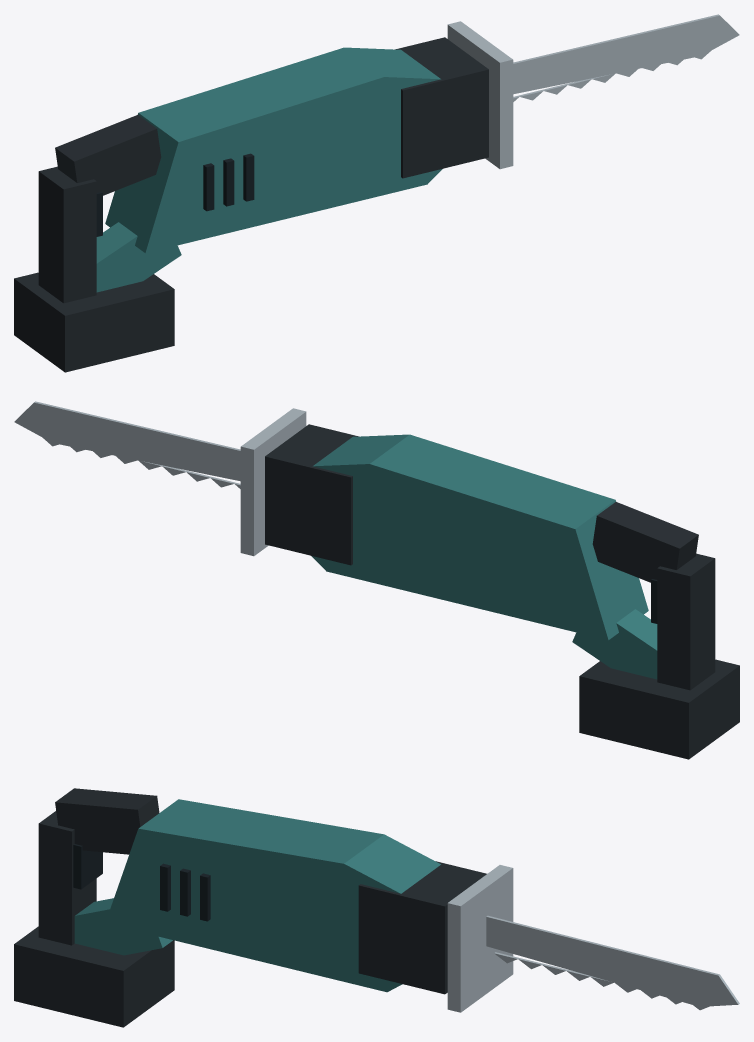
The model's file is b06_reciprocating_saw.glb.
3 views of the same model, one above another, from view 1: azimuth 30°, elevation 25°; view 2: azimuth 150°, elevation 25°; view 3: azimuth 330°, elevation 25° (orthographic).
Visible parts, largest first — view 1: b06_reciprocating_saw; view 2: b06_reciprocating_saw; view 3: b06_reciprocating_saw.
Part boxes in pixels (x1,y1,x2,y2): b06_reciprocating_saw: [14, 14, 739, 372]; b06_reciprocating_saw: [14, 401, 739, 759]; b06_reciprocating_saw: [14, 788, 739, 1027].
Bounding box in the file's own units: 0.6325 × 0.1835 × 0.082.
